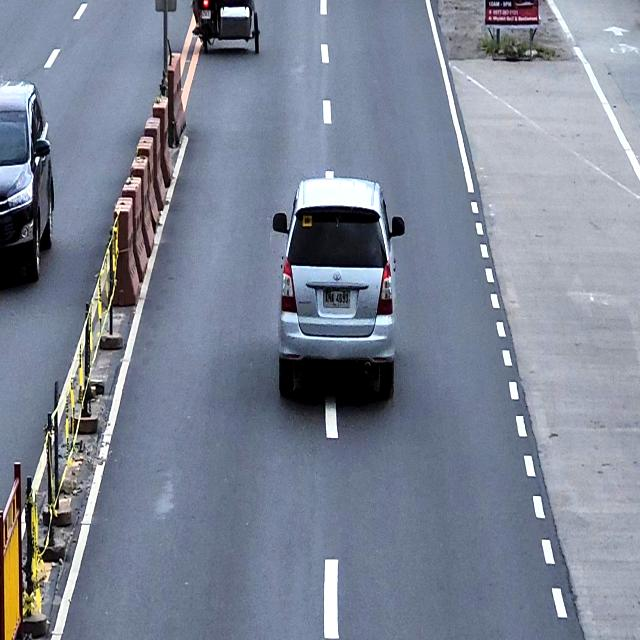Car: (272, 170, 405, 398), (0, 78, 54, 281)
License-Plate: (322, 286, 352, 308), (200, 8, 212, 20)
Tricycle: (191, 0, 260, 55)
